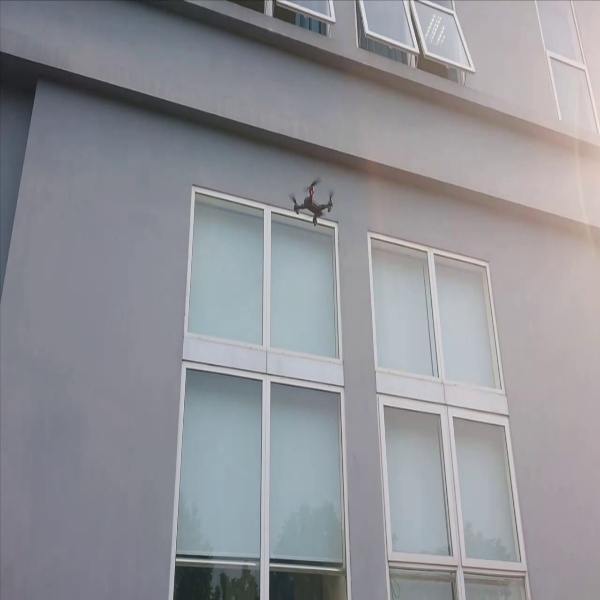drone: (285, 175, 342, 233)
